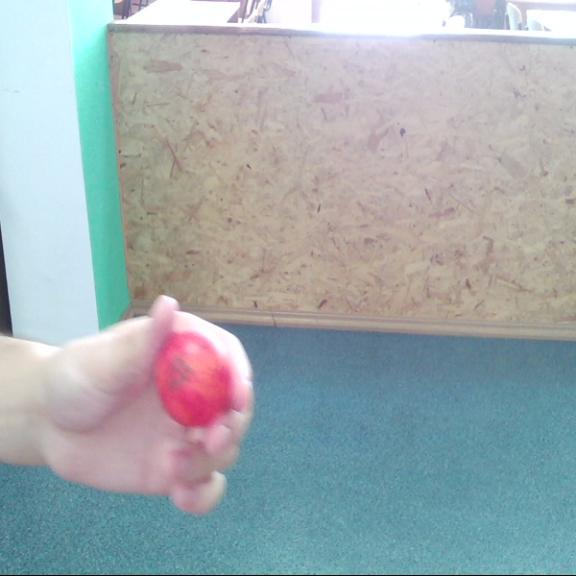ball: (156, 330, 238, 430)
